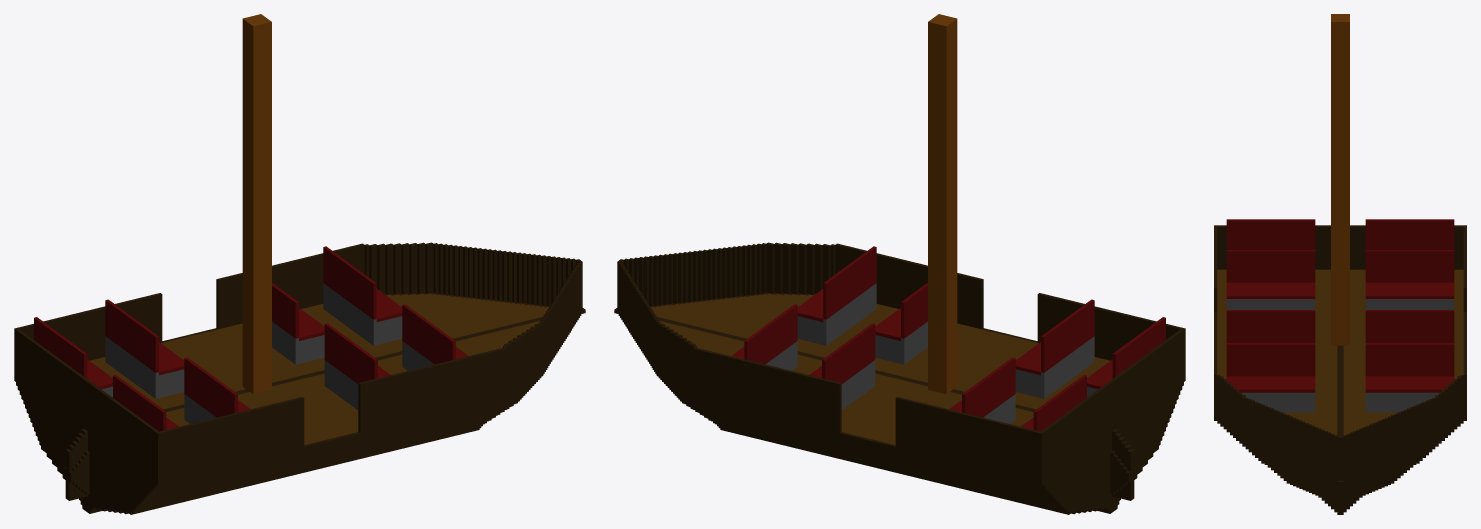
Rendered from Ship-1.obj.
3 renders of one model, left to right at view 1: azimuth 30°, elevation 25°; view 2: azimuth 150°, elevation 25°; view 3: azimuth 270°, elevation 25°, orthographic. The views are drawn at different scales.
Size of the model in its own units: 16.6 by 13.8 by 8.
1 material, 1 textured.
